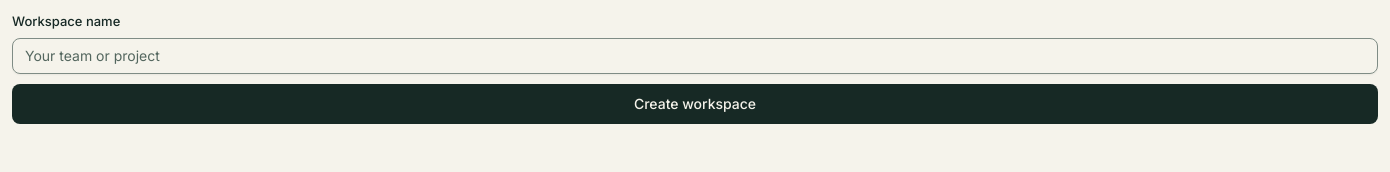
Test: workspace created › does not fire on a refused name
The image size is (1390, 172).
Type "x" into the field labelled "Workspace name".
click(695, 56); type("x")  # box [12,38,1378,74]
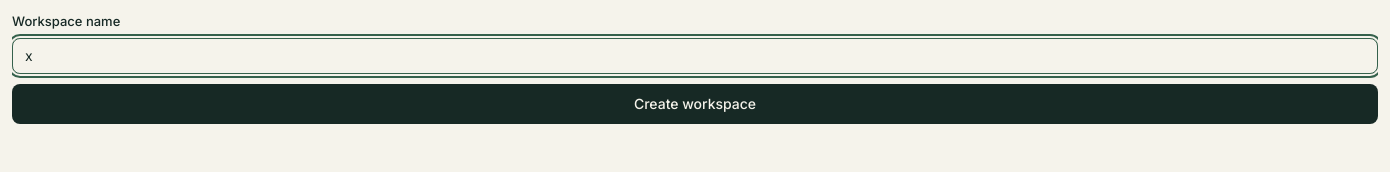
Click the button "Create workspace".
click(695, 104)  # box [12,84,1378,124]
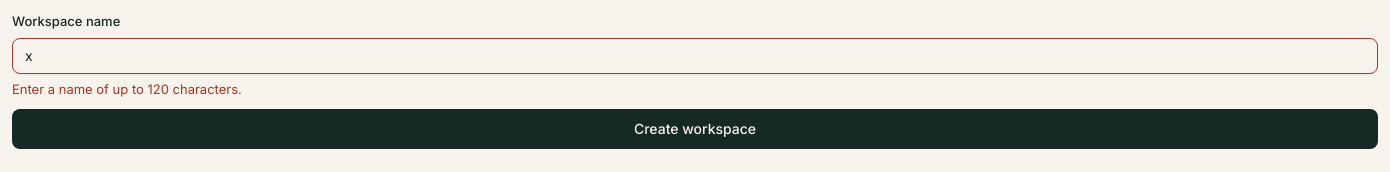
Result: the message "Enter a name of up to 120 characters." is shown at [12,80,242,96]
